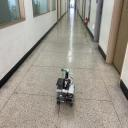cart: (56, 79, 74, 107)
